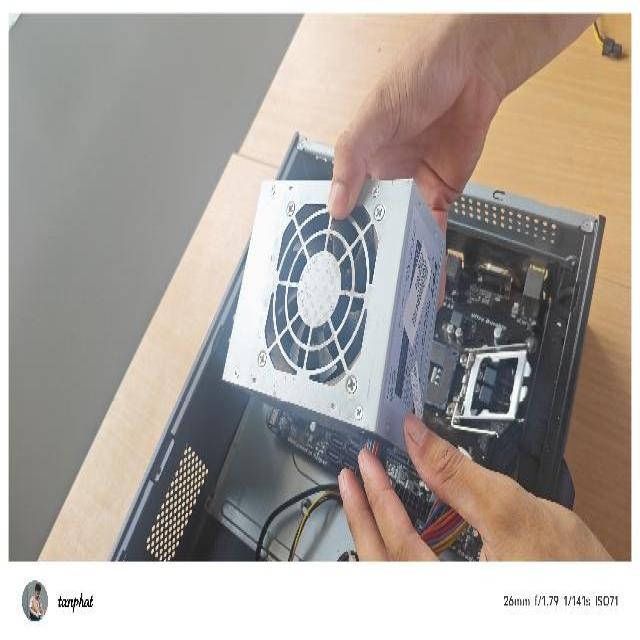PSU: (220, 176, 450, 473)
